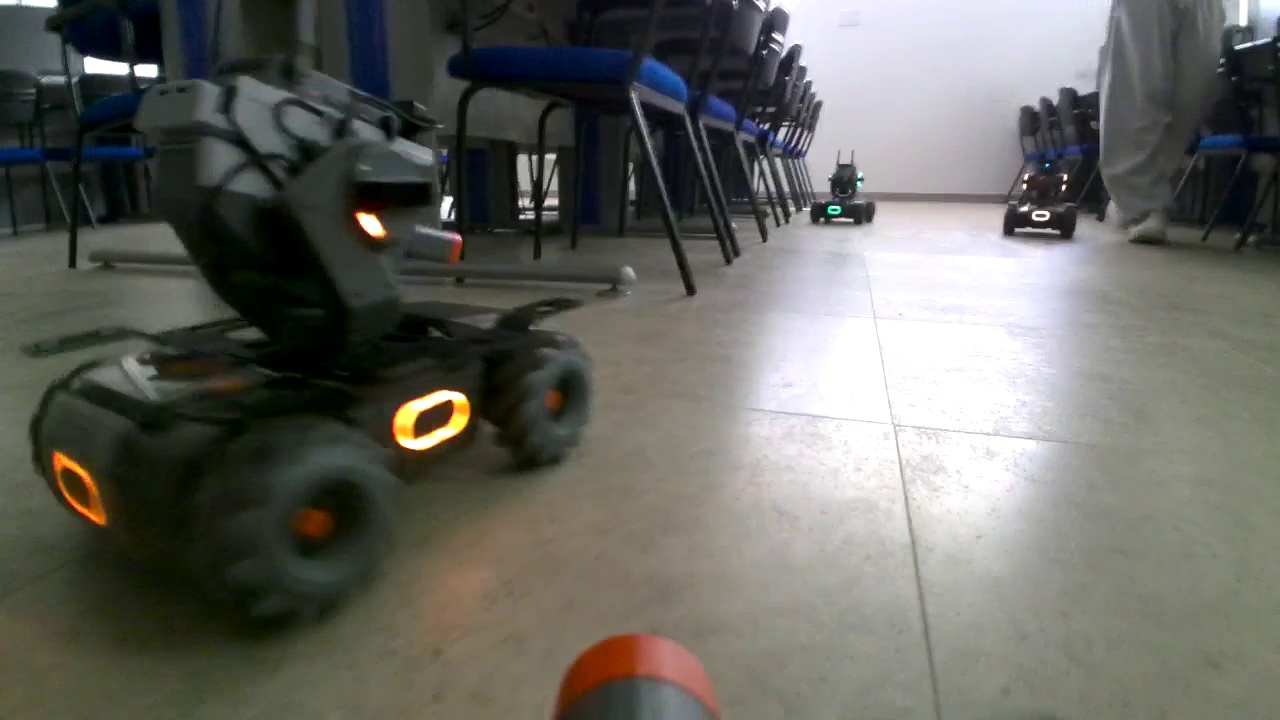robot: (22, 64, 596, 610), (1005, 152, 1076, 243), (809, 147, 876, 223)
